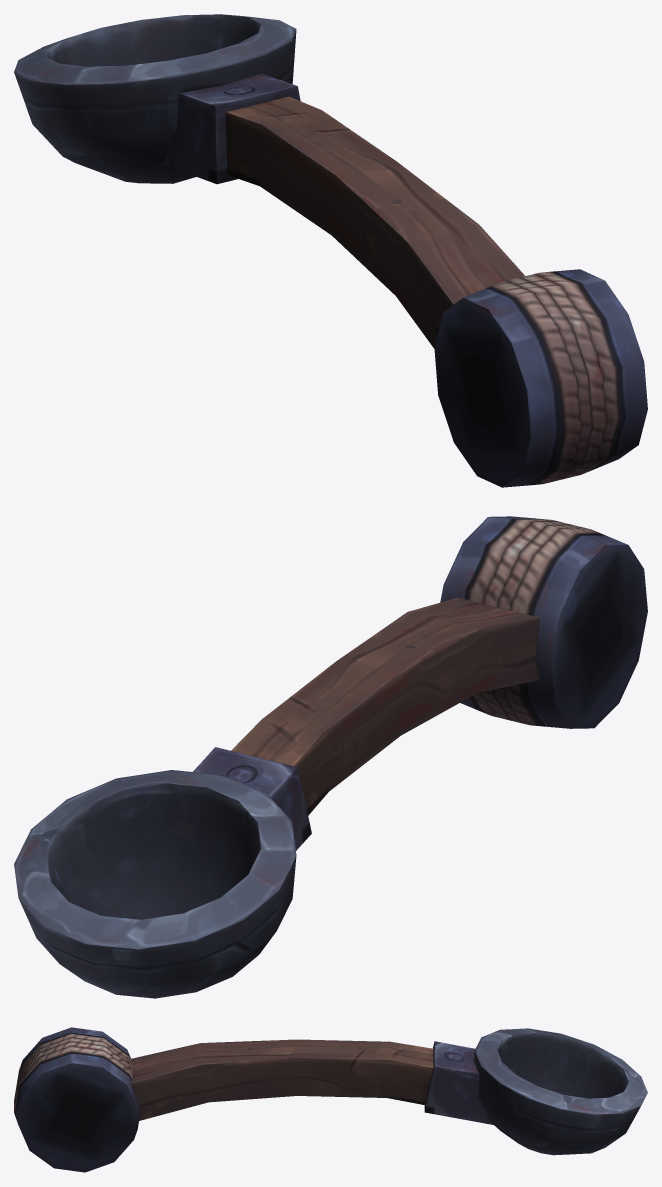
File: catapult_part_01.fbx
3 views of the same model, one above another, from view 1: azimuth 30°, elevation 25°; view 2: azimuth 150°, elevation 25°; view 3: azimuth 270°, elevation 25° (orthographic). The views are drawn at different scales.
Parts seen in each view (by area): view 1: catapult_part_01; view 2: catapult_part_01; view 3: catapult_part_01.
Part boxes in pixels (x1=…): catapult_part_01: x1=14, y1=14, x2=647, y2=487; catapult_part_01: x1=14, y1=516, x2=647, y2=998; catapult_part_01: x1=14, y1=1027, x2=647, y2=1172.
Size of the model in its own units: 0.9521 by 0.6825 by 3.36.
